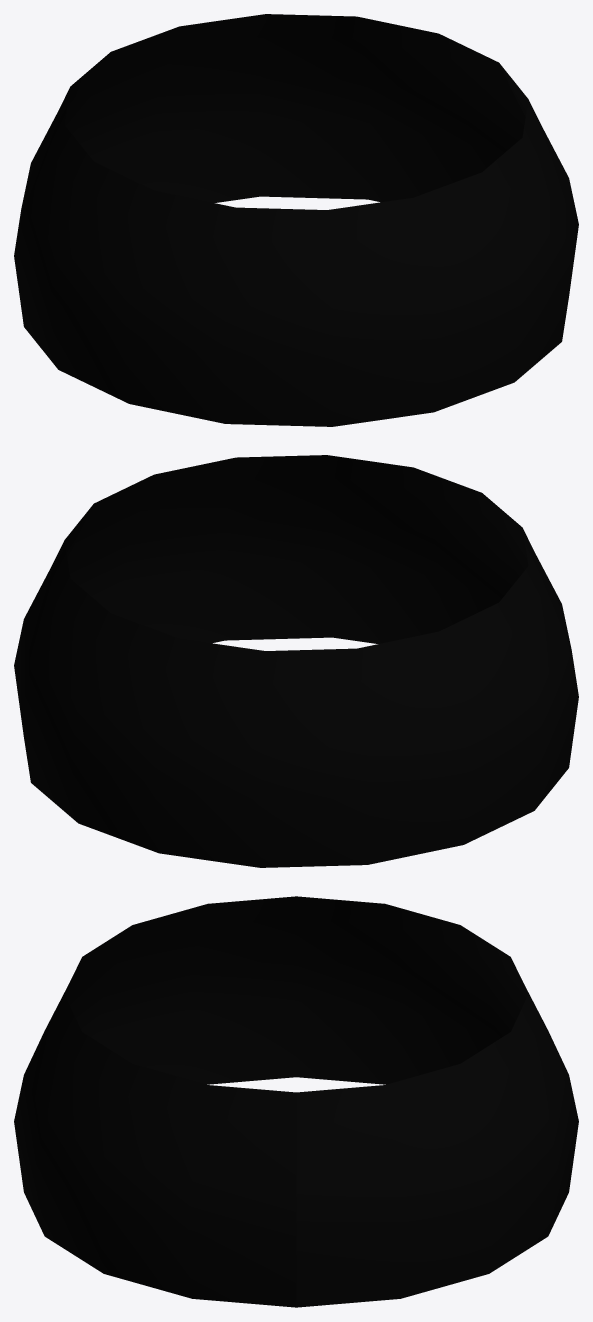
Rendered from shadow.obj.
3 views of the same model, one above another, from view 1: azimuth 30°, elevation 25°; view 2: azimuth 150°, elevation 25°; view 3: azimuth 270°, elevation 25° (orthographic).
Parts seen in each view (by area): view 1: event_obj_kt3_chocolatesundae_root_000_ncl1_1; view 2: event_obj_kt3_chocolatesundae_root_000_ncl1_1; view 3: event_obj_kt3_chocolatesundae_root_000_ncl1_1.
Boxes of the visible parts, x1,y1,x2,y2 form: event_obj_kt3_chocolatesundae_root_000_ncl1_1: [14, 14, 578, 426]; event_obj_kt3_chocolatesundae_root_000_ncl1_1: [14, 455, 578, 867]; event_obj_kt3_chocolatesundae_root_000_ncl1_1: [14, 896, 578, 1307].
Bounding box in the file's own units: 35.25 × 13.63 × 35.25.
